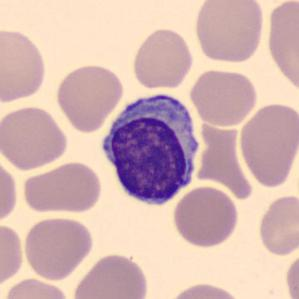Lymphocyte: (96, 87, 204, 211)
RBC: (237, 100, 298, 189), (53, 62, 125, 134), (21, 214, 96, 282), (191, 0, 266, 64), (0, 104, 71, 171), (20, 160, 105, 215), (171, 184, 241, 249), (188, 66, 259, 128), (130, 26, 196, 90), (70, 250, 151, 299), (0, 26, 49, 105), (264, 0, 299, 98), (255, 192, 298, 258), (0, 221, 26, 291), (1, 275, 71, 299), (164, 280, 244, 299), (0, 154, 20, 227), (283, 248, 299, 299)
